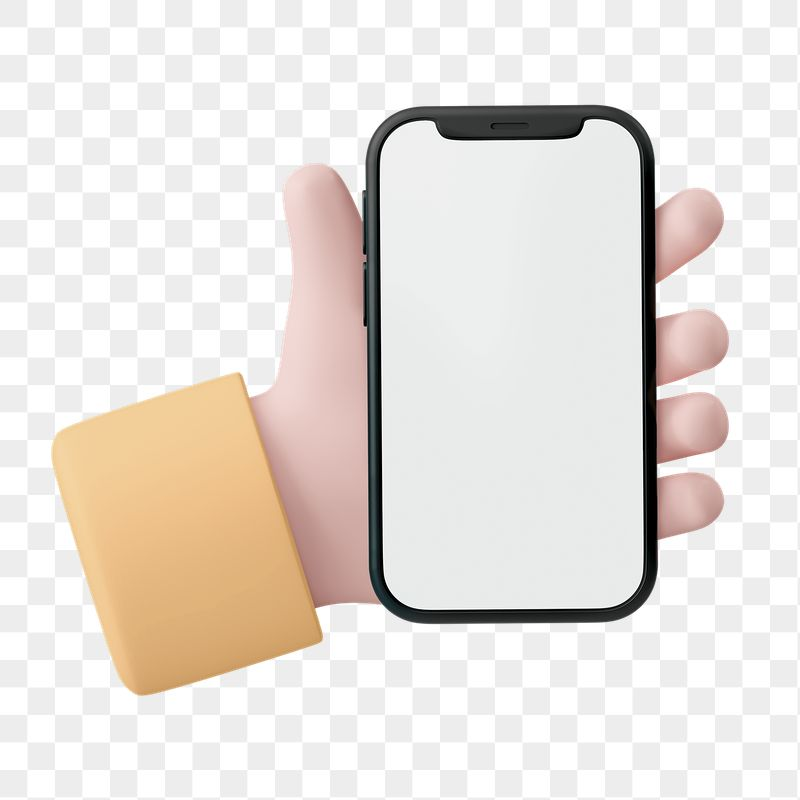hand: (47, 150, 712, 697)
phone: (357, 74, 666, 638)
